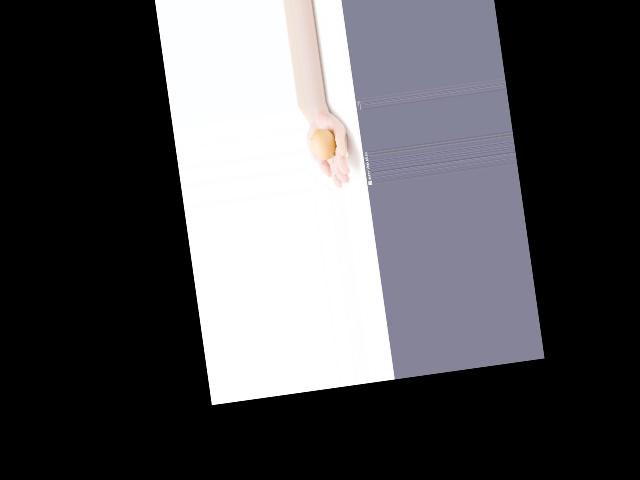egg: (308, 126, 337, 161)
